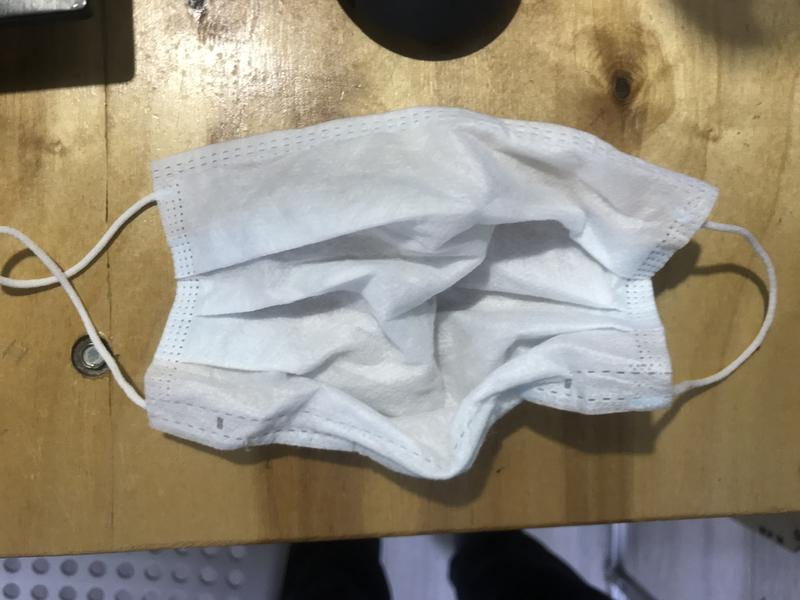medical_mask: (1, 105, 776, 480)
